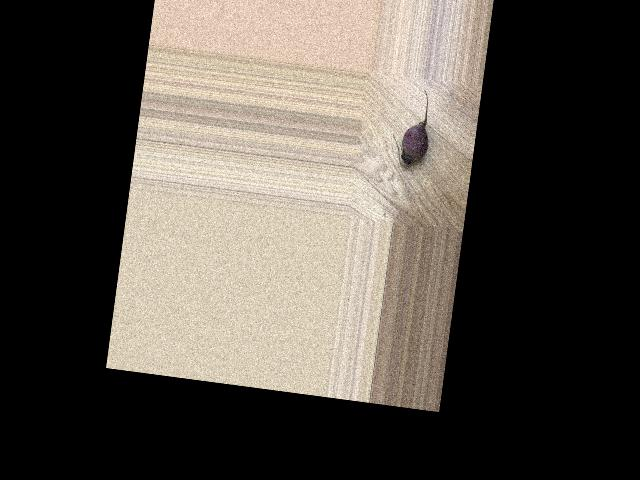beet: (389, 86, 435, 169)
